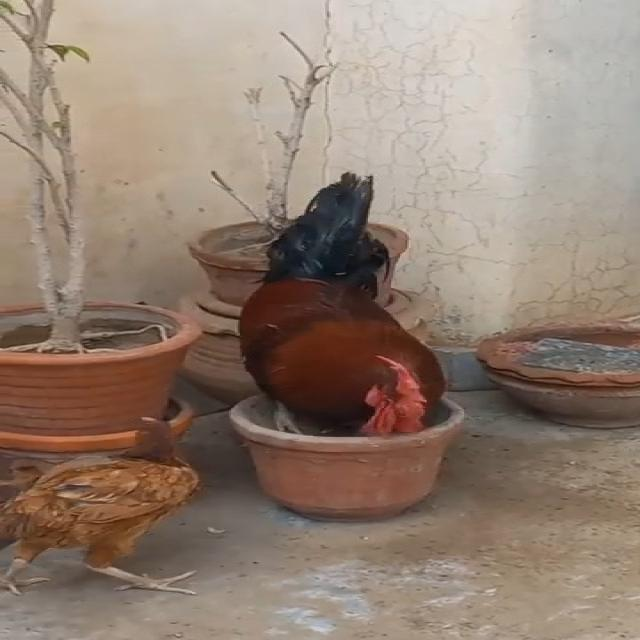stand bath: (245, 160, 448, 448)
